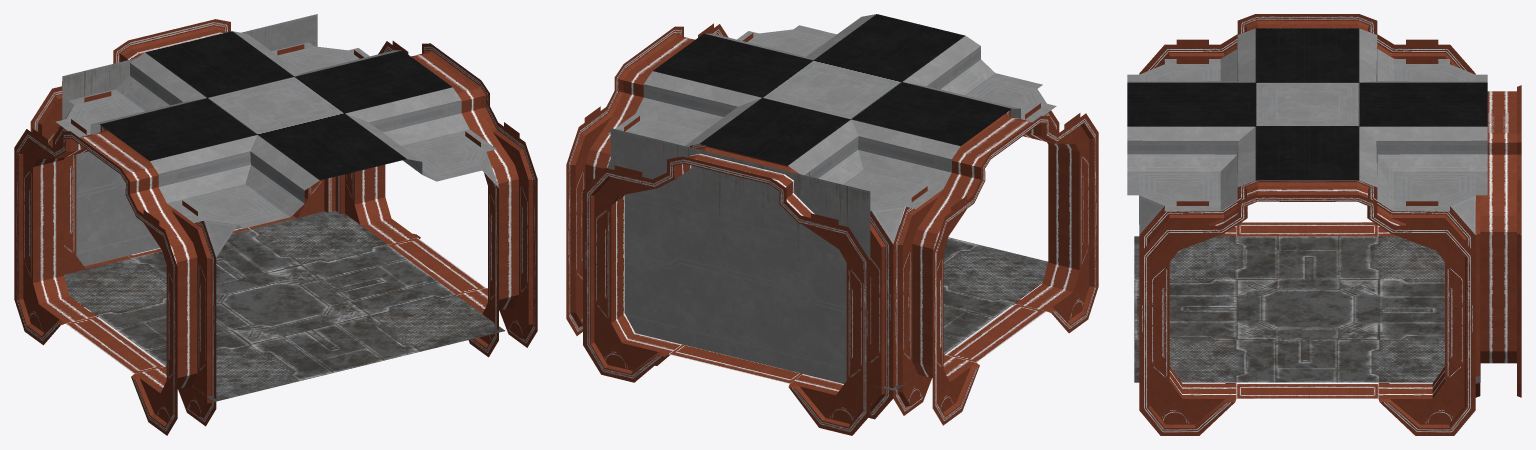
Rendered from Junction(L_R)_section.FBX.
3 views of the same model, side by side, from view 1: azimuth 30°, elevation 25°; view 2: azimuth 150°, elevation 25°; view 3: azimuth 270°, elevation 25° (orthographic). The views are drawn at different scales.
Visible parts, largest first — view 1: Group004, Plane002, Plane003, Group005, Plane004; view 2: Group004, Group005, Plane002, Plane004, Plane003; view 3: Group004, Plane003, Plane004, Plane002.
Boxes of the visible parts, x1,y1,x2,y2 form: Group004: (55,31,504,401); Plane002: (14,119,216,435); Plane003: (335,41,537,357); Group005: (62,14,317,266); Plane004: (30,19,335,306); Group004: (607,14,1056,390); Group005: (610,128,870,383); Plane002: (893,103,1098,425); Plane004: (583,144,893,435); Plane003: (566,23,753,335); Group004: (1127,28,1487,382); Plane003: (1139,180,1475,435); Plane004: (1475,85,1521,397); Plane002: (1139,14,1475,236).
Bounding box in the file's own units: 623 × 387 × 573.
